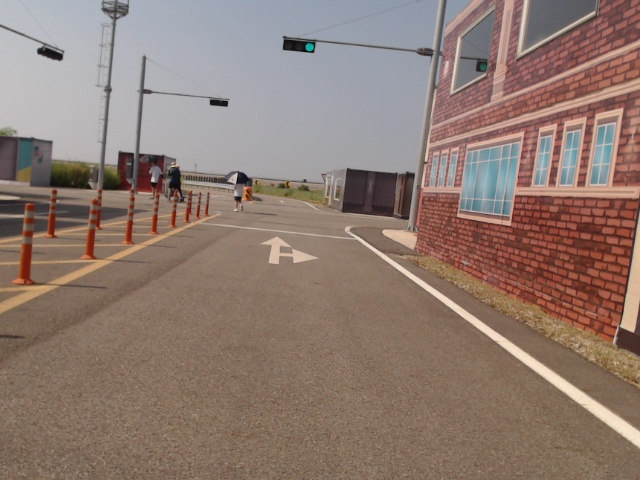green_3: (284, 38, 316, 53)
